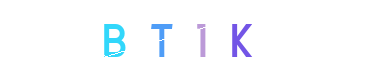1: (154, 0, 234, 80)
B: (89, 0, 169, 80)
K: (198, 0, 278, 80)
T: (150, 0, 230, 80)
